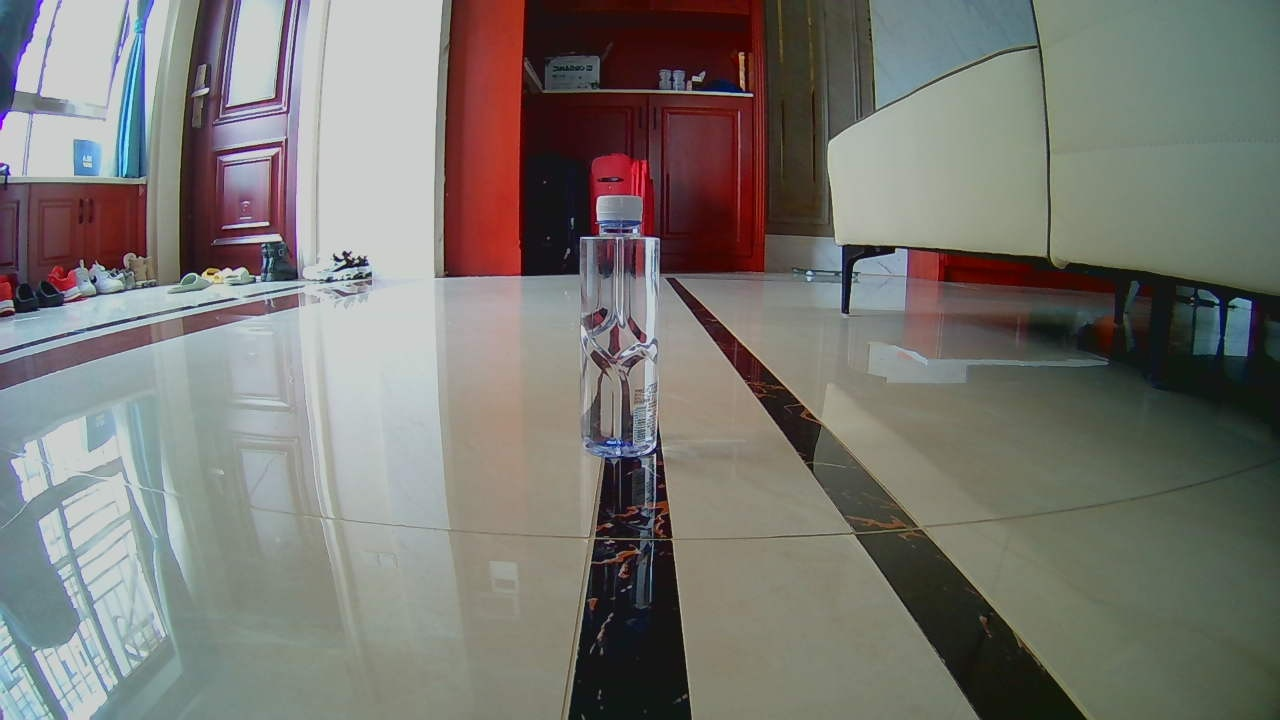water: (575, 194, 655, 454)
